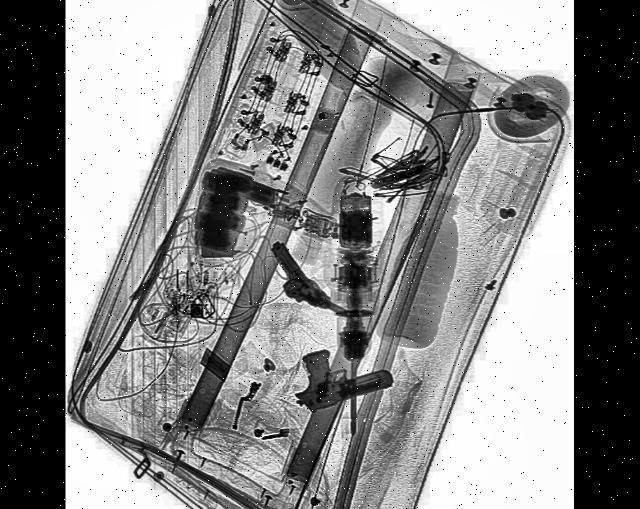Gun: (261, 232, 354, 341), (292, 328, 395, 415)
